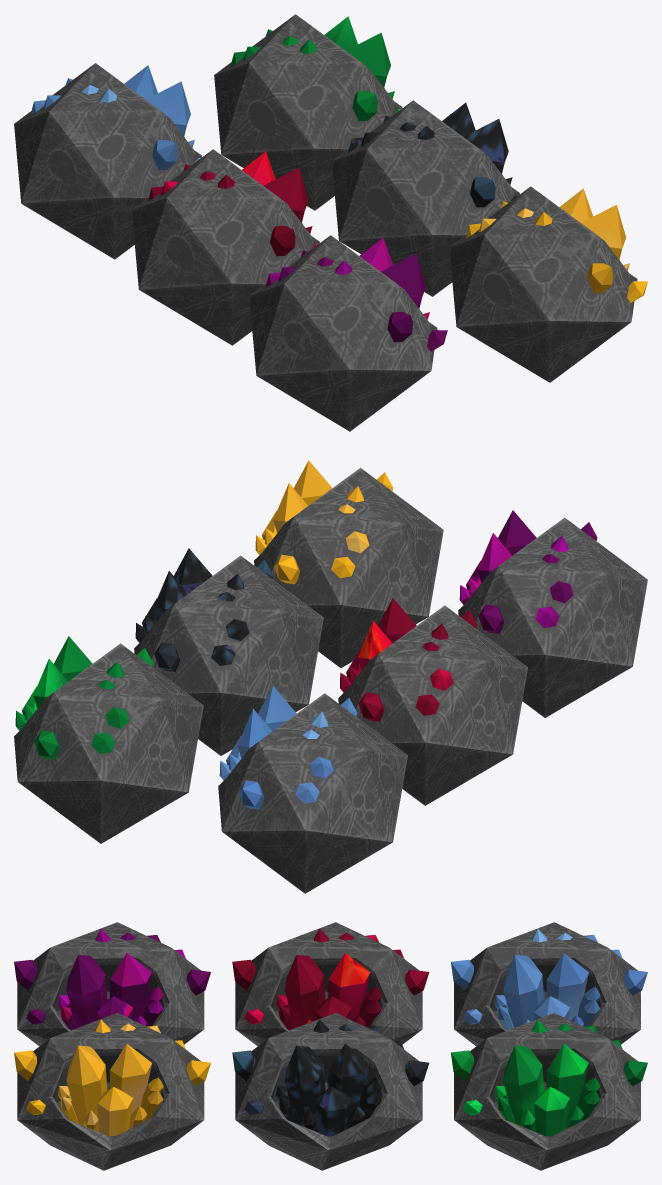
3 views of the same model, one above another, from view 1: azimuth 30°, elevation 25°; view 2: azimuth 150°, elevation 25°; view 3: azimuth 270°, elevation 25° (orthographic). The views are drawn at different scales.
Parts seen in each view (by area): view 1: Sun_Stone_low, Ametyst__Stone_low, Diamond_Stone_low, Ruby_Stone_low, Emerald_Stone_low, Obsidian_Stone_low, Sun_Gem_low, Ametyst_Gem_low, Obsidian_Gem_low, Ruby_Gem_low, Emerald_Gem_low, Diamond_Gem_low; view 2: Emerald_Stone_low, Diamond_Stone_low, Ruby_Stone_low, Ametyst__Stone_low, Obsidian_Stone_low, Sun_Stone_low, Ametyst_Gem_low, Obsidian_Gem_low, Diamond_Gem_low, Sun_Gem_low, Ruby_Gem_low, Emerald_Gem_low; view 3: Obsidian_Stone_low, Sun_Stone_low, Emerald_Stone_low, Ruby_Stone_low, Ametyst__Stone_low, Diamond_Stone_low, Emerald_Gem_low, Sun_Gem_low, Obsidian_Gem_low, Ruby_Gem_low, Diamond_Gem_low, Ametyst_Gem_low.
Boxes of the visible parts, x1,y1,x2,y2 form: Sun_Stone_low: (449, 186, 637, 382); Ametyst__Stone_low: (249, 235, 437, 431); Diamond_Stone_low: (14, 63, 202, 259); Ruby_Stone_low: (131, 149, 319, 345); Emerald_Stone_low: (214, 14, 402, 210); Obsidian_Stone_low: (331, 100, 519, 296); Sun_Gem_low: (466, 188, 647, 302); Ametyst_Gem_low: (265, 237, 447, 351); Obsidian_Gem_low: (348, 102, 518, 207); Ruby_Gem_low: (148, 151, 318, 256); Emerald_Gem_low: (230, 16, 400, 121); Diamond_Gem_low: (30, 65, 200, 169); Emerald_Stone_low: (14, 643, 203, 843); Diamond_Stone_low: (218, 693, 407, 893); Ruby_Stone_low: (338, 605, 527, 805); Ametyst__Stone_low: (458, 517, 647, 717); Obsidian_Stone_low: (134, 555, 323, 755); Sun_Stone_low: (254, 468, 443, 667); Ametyst_Gem_low: (459, 510, 597, 633); Obsidian_Gem_low: (135, 548, 273, 671); Diamond_Gem_low: (219, 686, 357, 809); Sun_Gem_low: (255, 460, 393, 583); Ruby_Gem_low: (340, 598, 477, 721); Emerald_Gem_low: (15, 636, 153, 759); Obsidian_Stone_low: (235, 1013, 422, 1170); Sun_Stone_low: (17, 1013, 204, 1170); Emerald_Stone_low: (454, 1013, 640, 1170); Ruby_Stone_low: (235, 922, 422, 1046); Ametyst__Stone_low: (17, 922, 204, 1046); Diamond_Stone_low: (454, 922, 640, 1046); Emerald_Gem_low: (451, 1019, 647, 1136); Sun_Gem_low: (14, 1019, 210, 1136); Obsidian_Gem_low: (232, 1019, 429, 1136); Ruby_Gem_low: (232, 928, 429, 1030); Diamond_Gem_low: (451, 929, 647, 1029); Ametyst_Gem_low: (14, 929, 210, 1030).
Bounding box in the file's own units: 4.22 × 1.59 × 6.68.
Materials: 1 (1 with a texture image).
